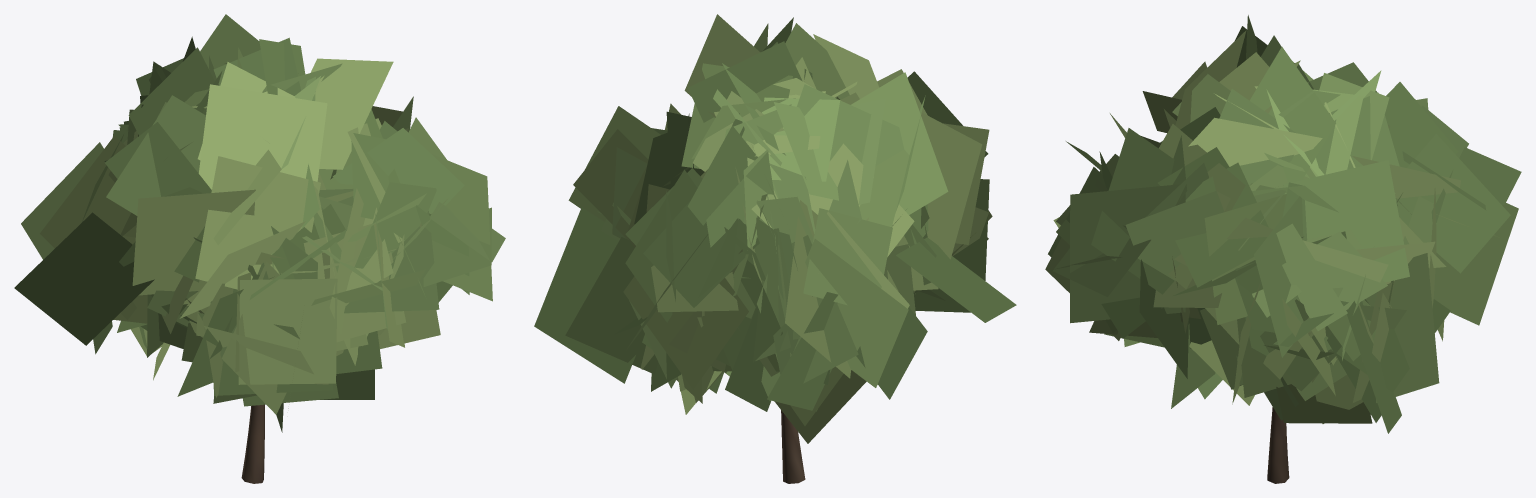
File: broadleaf_lod1.glb
3 views of the same model, side by side, from view 1: azimuth 30°, elevation 25°; view 2: azimuth 150°, elevation 25°; view 3: azimuth 270°, elevation 25° (orthographic).
Visible parts, largest first — view 1: broadleaf_lod1; view 2: broadleaf_lod1; view 3: broadleaf_lod1.
Boxes of the visible parts, box(x1,y1,x2,y2) form: broadleaf_lod1: box(14, 14, 505, 483); broadleaf_lod1: box(534, 14, 1016, 483); broadleaf_lod1: box(1045, 15, 1521, 483).
Size of the model in its own units: 1 by 1 by 0.9885.
